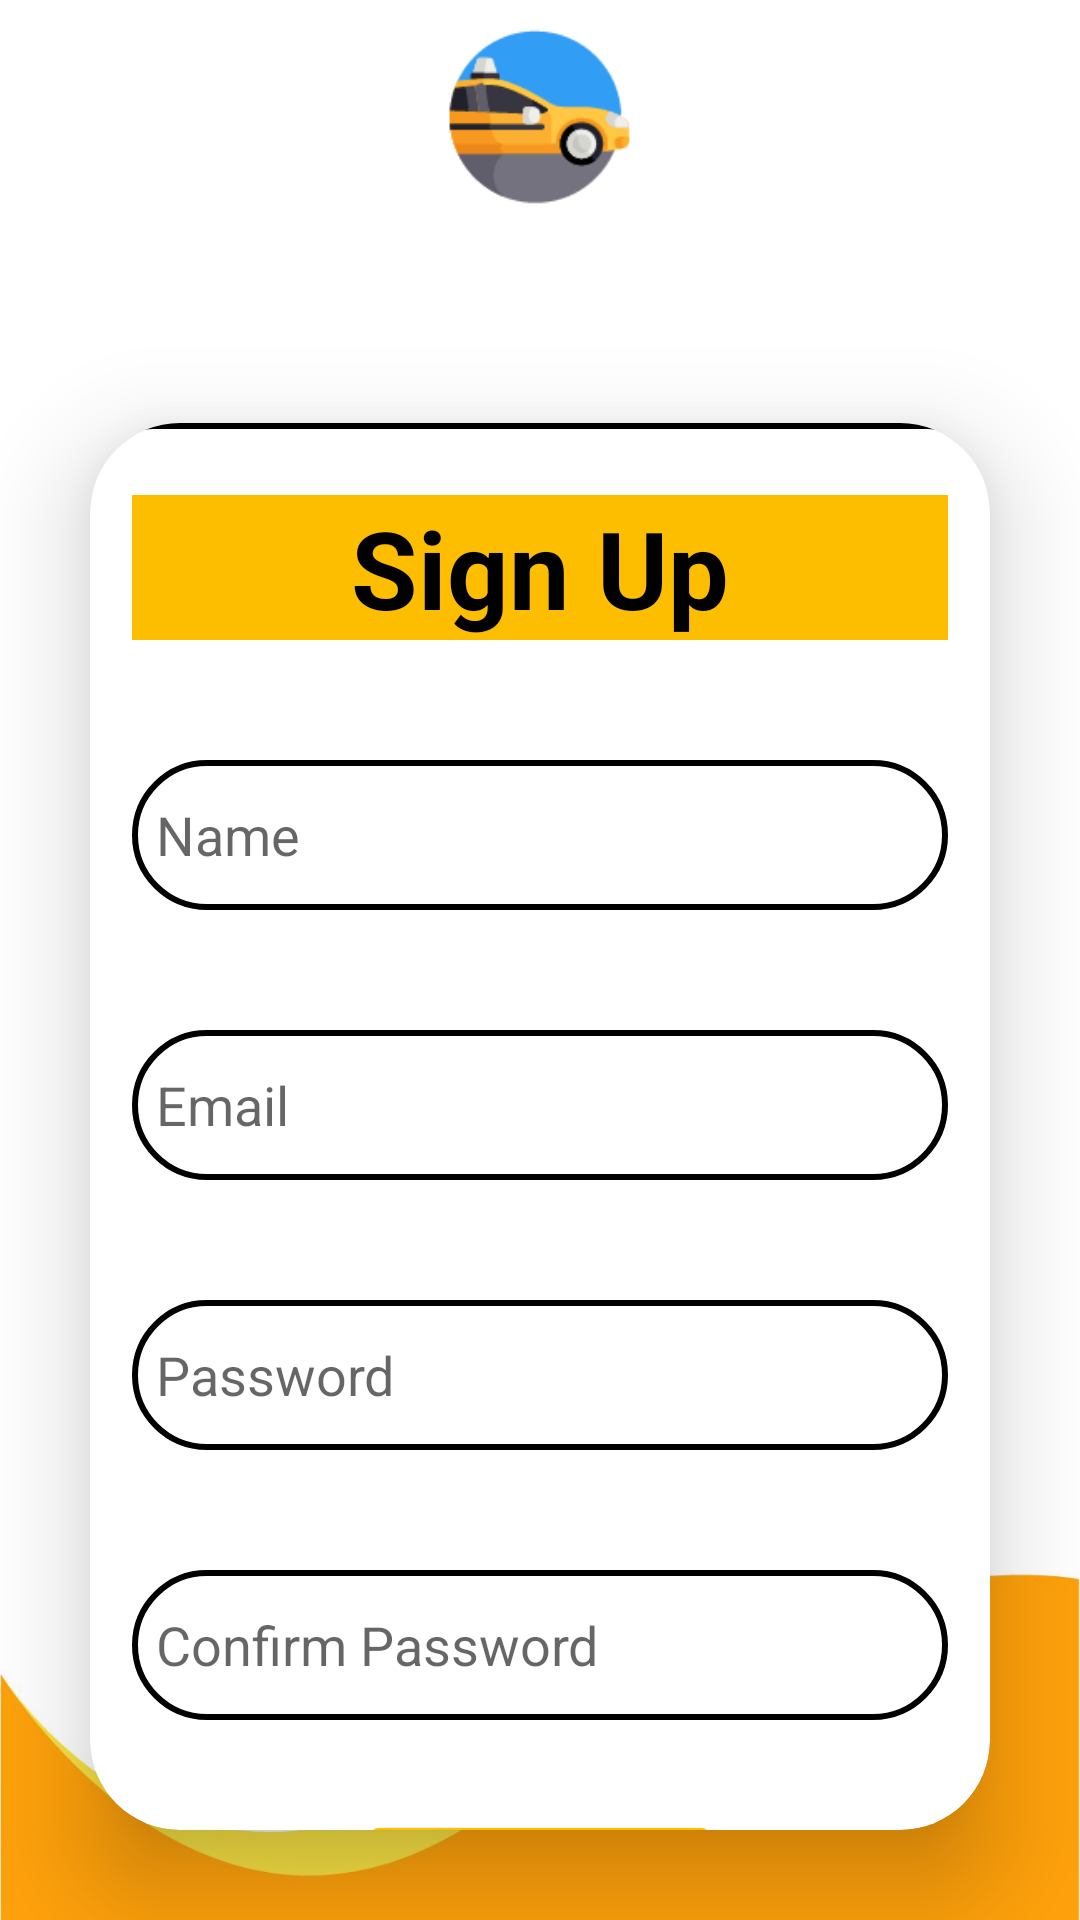

Icons on this 1080w x 1920h Android screen, each with the point to tap as (x=x, y=y):
ridezycar: (x=539, y=117)
